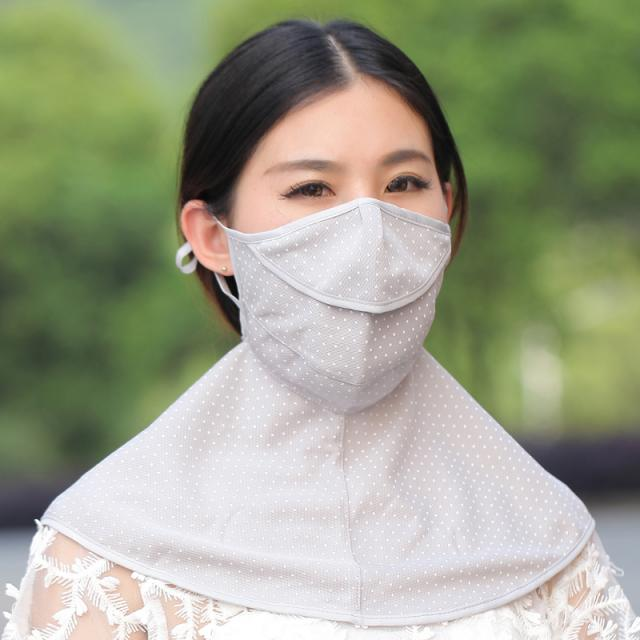mask: (232, 79, 448, 375)
